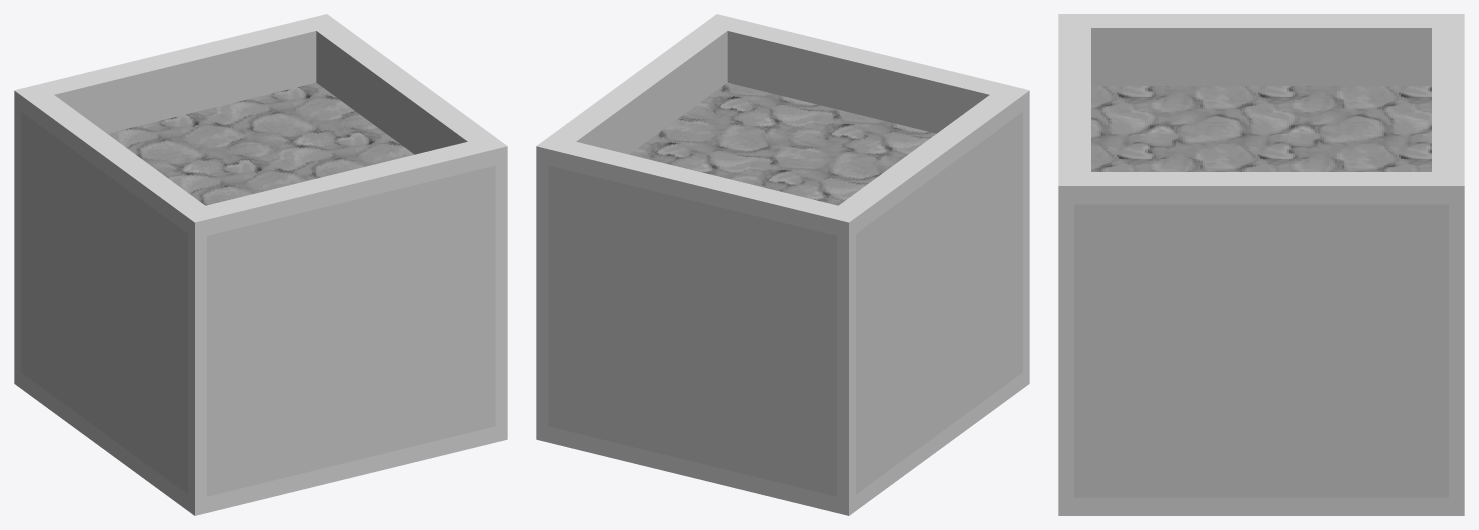
File: BoxWithRubble.fbx
3 renders of one model, left to right at view 1: azimuth 30°, elevation 25°; view 2: azimuth 150°, elevation 25°; view 3: azimuth 270°, elevation 25°, orthographic. The views are drawn at different scales.
Parts seen in each view (by area): view 1: Cube.003; view 2: Cube.003; view 3: Cube.003.
Boxes of the visible parts, x1,y1,x2,y2 form: Cube.003: (14, 14, 507, 515); Cube.003: (536, 14, 1029, 515); Cube.003: (1058, 14, 1464, 515).
Size of the model in its own units: 0.5831 by 0.5224 by 0.5831.
